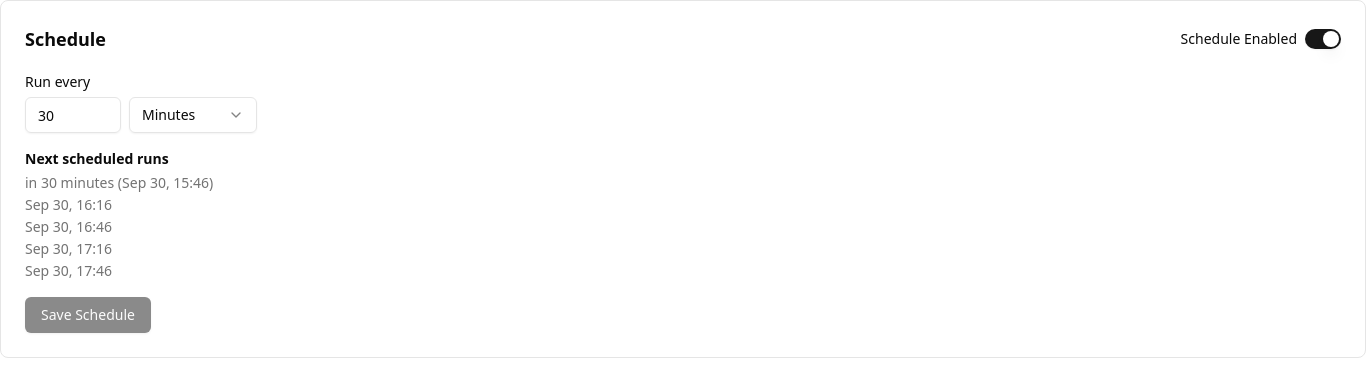
Test: ScheduleBuilder — UI-02: Frontend validation › shows validation error when minutes value is below min of 5
Step 1. Replace the text in the number field with placeholder "Value" with "2" → point(73, 115), box top-left (25, 97), bottom-right (121, 133)
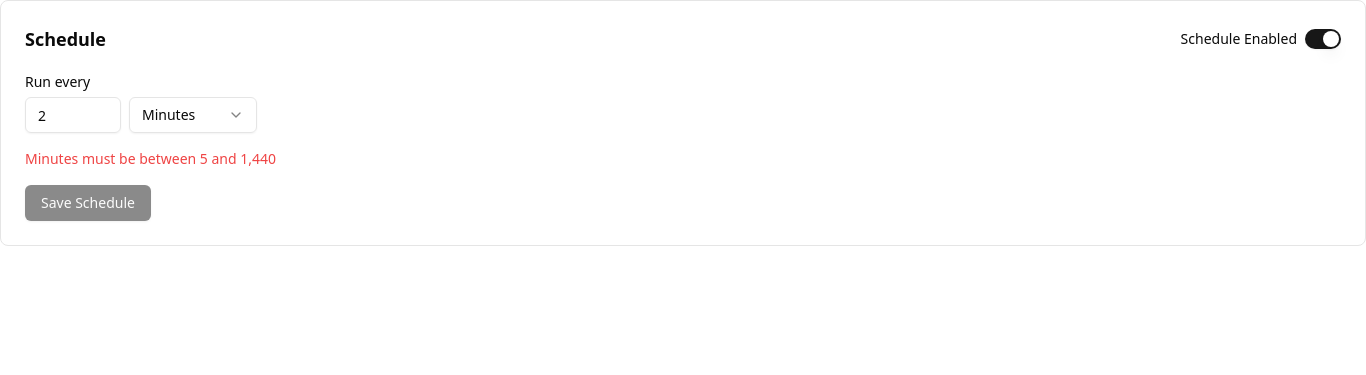
Result: the text "Minutes must be between 5 and 1,440" is shown at top-left (25, 149), bottom-right (276, 168)
